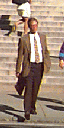person: (14, 22, 47, 125)
